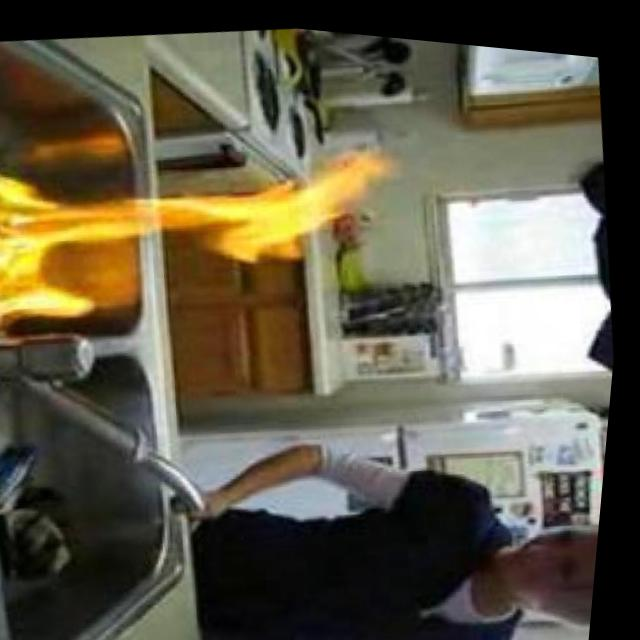Fire: (0, 110, 407, 353)
